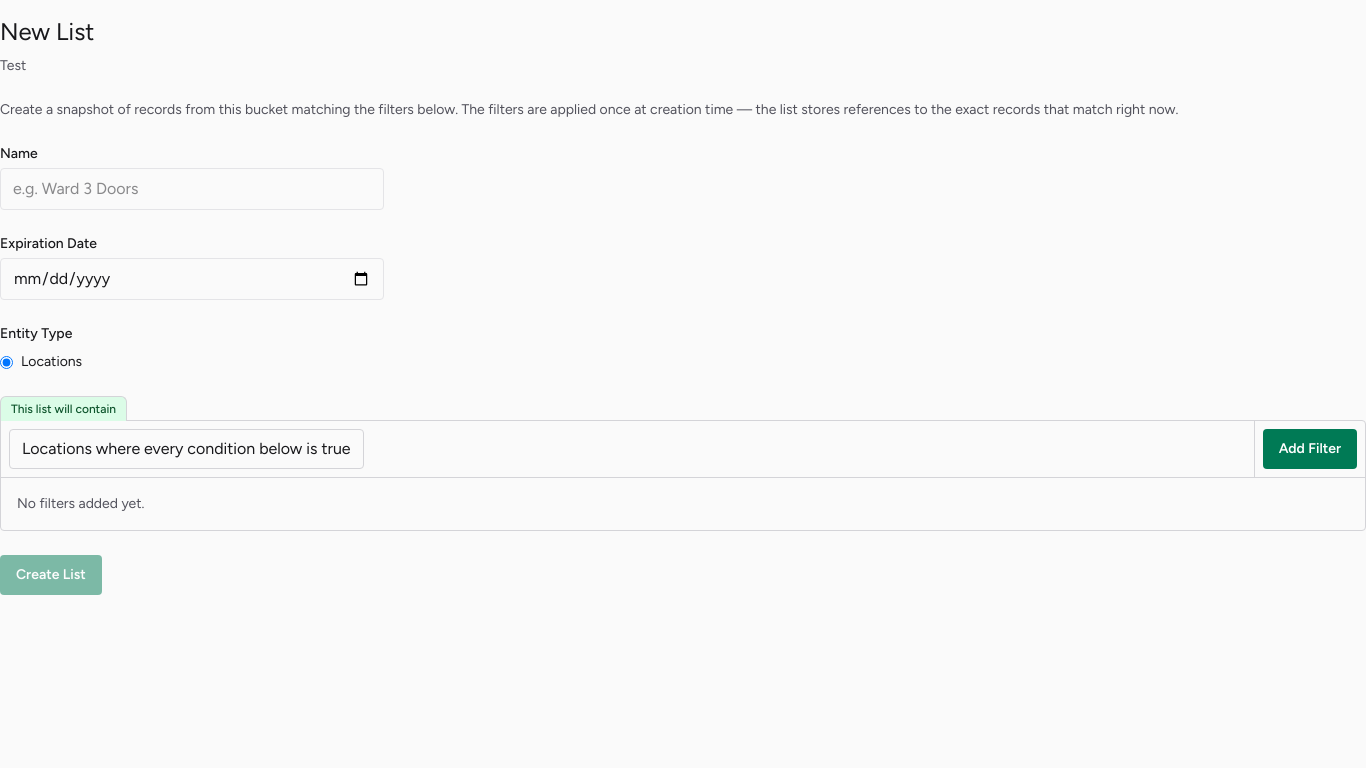
Test: shows the filter editor for the kind of record chosen, with only its filters
Click the button "Add Filter": {"x": 1310, "y": 449} [1263,429,1357,469]
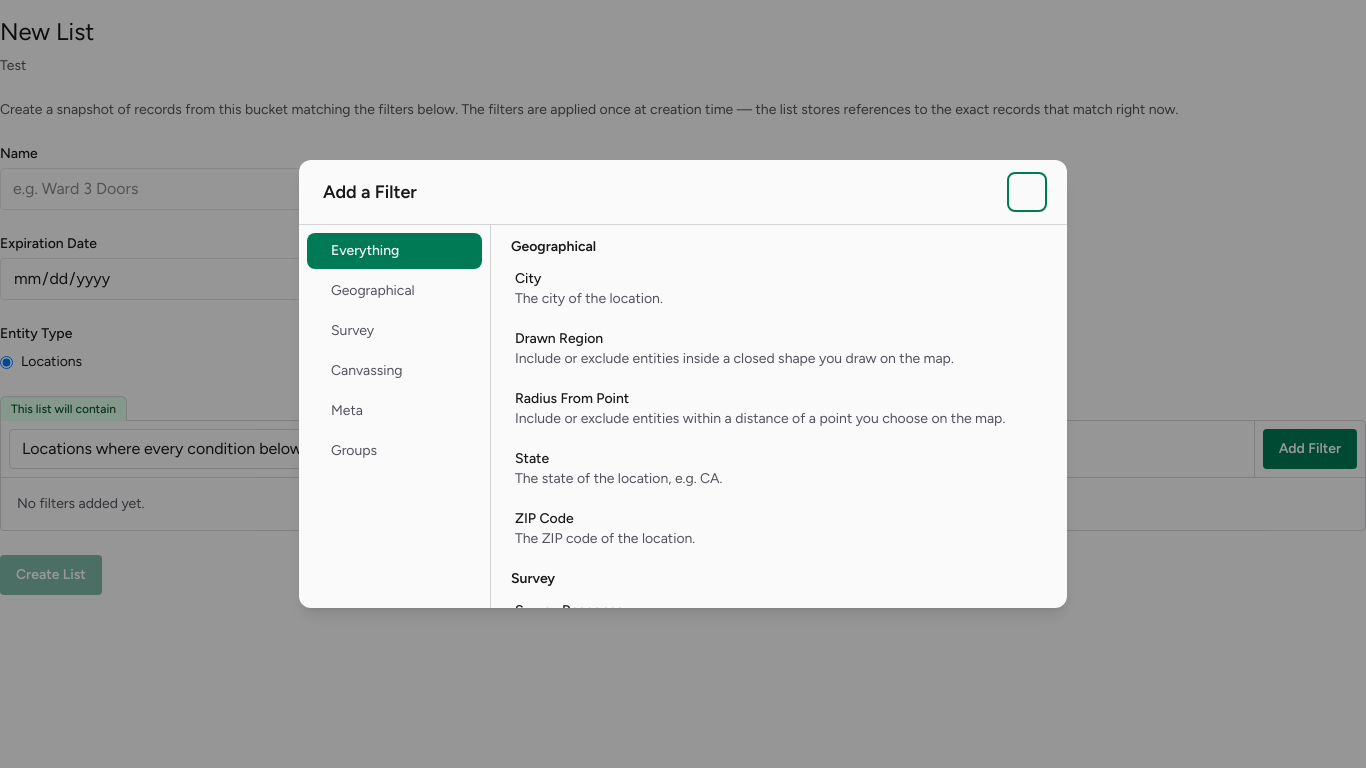
Now the button "City The city of the location." is shown, box [499,261,1059,317]
